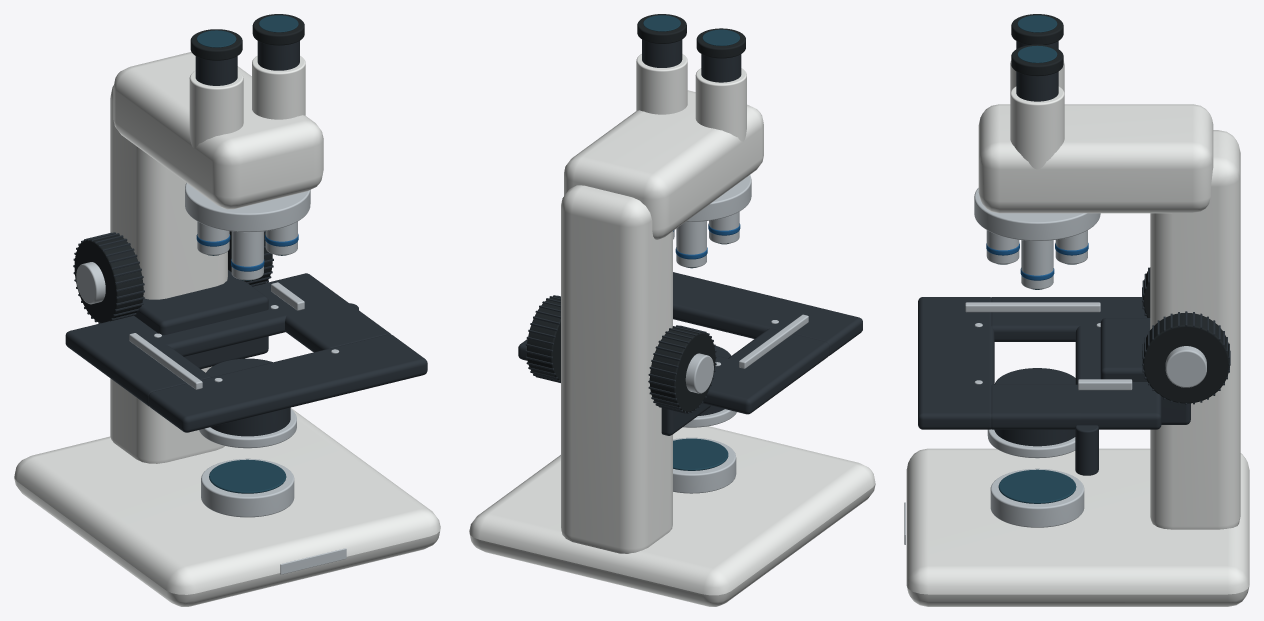
The model's file is microscope.glb.
3 renders of one model, left to right at view 1: azimuth 30°, elevation 25°; view 2: azimuth 150°, elevation 25°; view 3: azimuth 270°, elevation 25°, orthographic. The views are drawn at different scales.
Visible parts, largest first — view 1: Weighted base, Shoulder, Spine, Stage front, Stage rear, Stage support, Nosepiece, Coarse focus, Stage side.001, Binocular housing, Stage side, Binocular housing.001 (+16 smaller); view 2: Spine, Weighted base, Shoulder, Stage front, Stage rear, Coarse focus, Binocular housing, Stage side, Binocular housing.001, Coarse focus.001, Illuminator, Illuminator glass (+10 smaller); view 3: Weighted base, Spine, Shoulder, Stage front, Stage rear, Coarse focus.001, Stage side.001, Stage support, Binocular housing.001, Stage side, Nosepiece, Illuminator (+15 smaller).
Part boxes in pixels (bbox=[...]): Weighted base: bbox=[14, 408, 440, 606]; Shoulder: bbox=[113, 52, 323, 209]; Spine: bbox=[110, 85, 227, 463]; Stage front: bbox=[148, 334, 427, 432]; Stage rear: bbox=[65, 273, 345, 373]; Stage support: bbox=[134, 270, 268, 368]; Nosepiece: bbox=[185, 183, 310, 232]; Coarse focus: bbox=[74, 233, 143, 323]; Stage side.001: bbox=[285, 301, 390, 352]; Binocular housing: bbox=[189, 71, 243, 147]; Stage side: bbox=[103, 344, 211, 406]; Binocular housing.001: bbox=[252, 56, 305, 119]; Spine: bbox=[561, 185, 672, 553]; Weighted base: bbox=[469, 426, 875, 606]; Shoulder: bbox=[564, 90, 763, 239]; Stage front: bbox=[673, 272, 862, 355]; Stage rear: bbox=[518, 339, 787, 414]; Coarse focus: bbox=[649, 326, 715, 412]; Binocular housing: bbox=[695, 68, 746, 141]; Stage side: bbox=[728, 328, 829, 386]; Binocular housing.001: bbox=[636, 54, 687, 114]; Coarse focus.001: bbox=[527, 296, 560, 381]; Illuminator: bbox=[673, 437, 736, 493]; Illuminator glass: bbox=[673, 438, 728, 470]; Weighted base: bbox=[906, 448, 1249, 606]; Spine: bbox=[1150, 130, 1240, 529]; Shoulder: bbox=[978, 104, 1213, 213]; Stage front: bbox=[918, 297, 994, 429]; Stage rear: bbox=[1075, 297, 1161, 429]; Coarse focus.001: bbox=[1143, 312, 1229, 403]; Stage side.001: bbox=[991, 384, 1081, 429]; Stage support: bbox=[1100, 318, 1190, 424]; Binocular housing.001: bbox=[1010, 86, 1064, 169]; Stage side: bbox=[991, 297, 1081, 341]; Nosepiece: bbox=[974, 188, 1100, 240]; Illuminator: bbox=[990, 468, 1084, 527].
Bounding box in the file's own units: 3.5 × 6.23 × 3.82.
